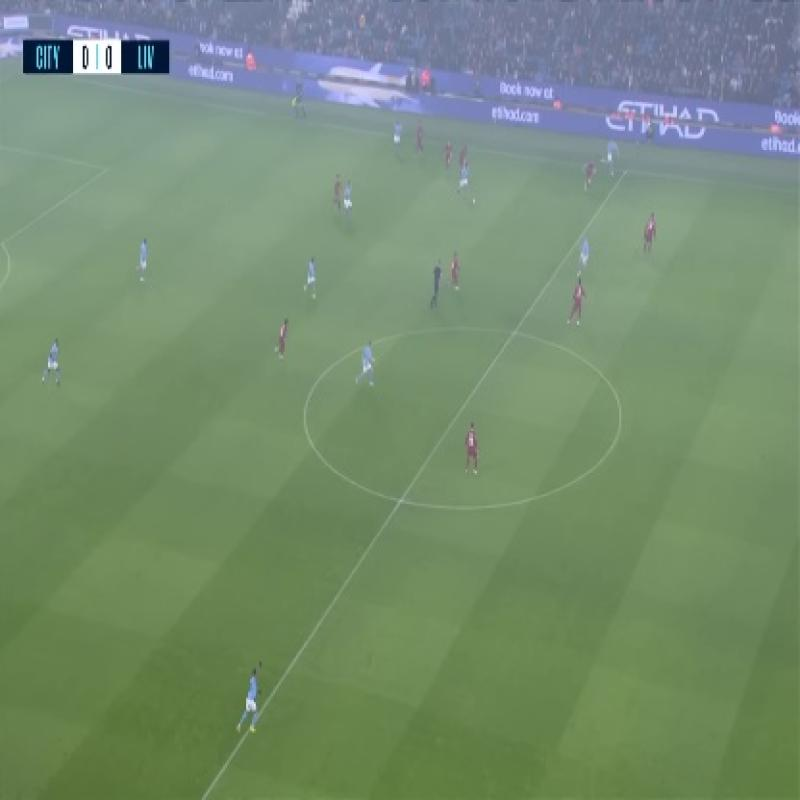10: (0, 229, 12, 254)
13: (617, 158, 635, 180)
14: (500, 315, 527, 348)
15: (384, 481, 414, 518)
9: (94, 152, 119, 185)
c: (594, 428, 630, 462), (306, 367, 334, 393)
